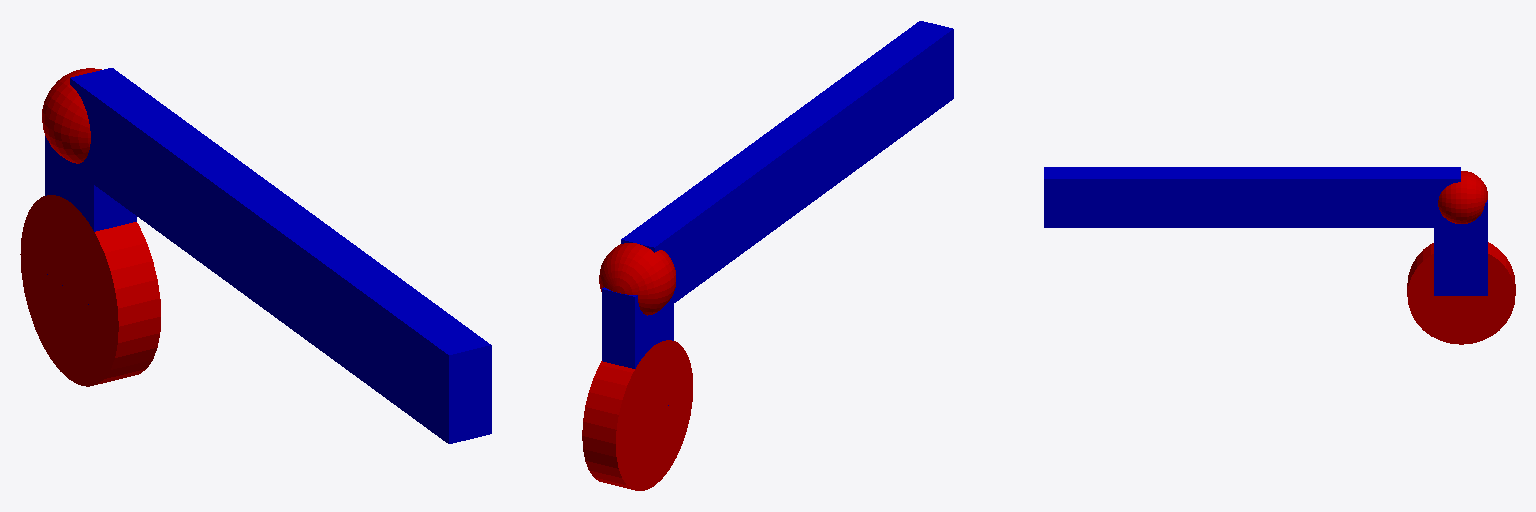
robot.urdf — TwoLinkStruct7406938494:
<?xml version="1.0"?>
<robot  name="TwoLinkStruct7406938494" >
 <material  name="blue" >
  <color  rgba="0 0 0.8 1.0" />
 </material>
 <material  name="red" >
  <color  rgba="0.8 0 0 1.0" />
 </material>
 <link  name="base_link" >
  <visual >
   <origin  rpy="0 1.5707 0"  xyz="0 0 0" />
   <material  name="red" />
   <geometry >
    <cylinder  length="0.05"  radius="0.1" />
   </geometry>
  </visual>
 </link>
 <joint  type="revolute"  name="joint1" >
  <parent  link="base_link" />
  <child  link="link1" />
  <origin  xyz="0 0 0"  rpy="0 0 0" />
  <axis  xyz="1 0 0" />
 </joint>
 <link  name="link1" >
  <inertial >
   <origin  rpy="0 0 0"  xyz="0 0 0.094441072407603" />
   <mass  value="1.0720069917348682" />
   <inertia  ixy="0.0"  iyy="0.0004466695798895285"  izz="0.0034104530835892335"  ixz="0.0"  ixx="0.0034104530835892335"  iyz="0.0" />
  </inertial>
  <visual >
   <origin  rpy="0 0 0"  xyz="0 0 0.094441072407603" />
   <material  name="blue" />
   <geometry >
    <box  size="0.05 0.1 0.188882144815206" />
   </geometry>
  </visual>
 </link>
 <joint  type="fixed"  name="joint-joint-1" >
  <parent  link="link1" />
  <child  link="joint-link-1" />
  <origin  xyz="0 0 0.188882144815206"  rpy="1.5707 0 0" />
  <axis  xyz="1 0 0" />
 </joint>
 <link  name="joint-link-1" >
  <inertial >
   <origin  rpy="0 0 0"  xyz="0 0 0" />
   <mass  value="4.22634804869238" />
   <inertia  ixy="0"  iyy="0"  izz="0"  ixz="0"  ixx="0"  iyz="0" />
  </inertial>
  <visual >
   <origin  rpy="0 0 0"  xyz="0 0 0" />
   <material  name="red" />
   <geometry >
    <sphere  radius="0.05" />
   </geometry>
  </visual>
 </link>
 <joint  type="revolute"  name="joint2" >
  <parent  link="link1" />
  <child  link="link2" />
  <origin  xyz="0 0 0.188882144815206"  rpy="1.5707 0 0" />
  <axis  xyz="1 0 0" />
 </joint>
 <link  name="link2" >
  <inertial >
   <origin  rpy="0 0 0"  xyz="0 0 0.385698384192456" />
   <mass  value="2.7382633568273236" />
   <inertia  ixy="0.0"  iyy="0.0004466695798895285"  izz="0.0533817471962024"  ixz="0.0"  ixx="0.0533817471962024"  iyz="0.0" />
  </inertial>
  <visual >
   <origin  rpy="0 0 0"  xyz="0 0 0.385698384192456" />
   <material  name="blue" />
   <geometry >
    <box  size="0.05 0.1 0.771396768384912" />
   </geometry>
  </visual>
 </link>
 <joint  type="fixed"  name="eef_joint" >
  <parent  link="link2" />
  <child  link="eef" />
  <origin  xyz="0 0 0.771396768384912"  rpy="0 0 0" />
 </joint>
 <link  name="eef" >
  <inertial >
   <origin  rpy="0 0 0"  xyz="0 0 0" />
   <mass  value="1" />
   <inertia  ixy="0"  iyy="0"  izz="0"  ixz="0"  ixx="0"  iyz="0" />
  </inertial>
 </link>
 <transmission  name="motor1" >
  <type  xmltext="SimpleTransmission" >
   SimpleTransmission
  </type>
  <actuator  name="motor1" >
   <mechanicalreduction  xmltext="1" >
    1
   </mechanicalreduction>
  </actuator>
  <joint  name="joint1" />
 </transmission>
 <transmission  name="motor2" >
  <type  xmltext="SimpleTransmission" >
   SimpleTransmission
  </type>
  <actuator  name="motor2" >
   <mechanicalreduction  xmltext="1" >
    1
   </mechanicalreduction>
  </actuator>
  <joint  name="joint2" />
 </transmission>
</robot>

<!-- {'carti': array([-0.1 ,  0.14,  0.85]), 'cartd': array([-0.1 ,  0.32,  1.29]), 'tau_mu': 0.5062081725138509, 'b0': 0.5849475468991611, 'Km': 4.4249957494399075, 'k_velocity': 24.371415690413126, 'tau_max_m': 0.6868756209652863, 'omega_max_m': 7532.6975497352605, 'gear_ratio': 14.08731639781458, 'Kp': 37.51007054500334, 'Kd': 64.55680679094394, 'm_m': 4.22634804869238, 'l1': 0.188882144815206, 'l2': 0.771396768384912, 'k1': 1000.0, 'k2': 49127583.8301766, 'k3': 376846556.3003597}-->

--- Render facts (derived) ---
Views: 3 orthographic renders of the robot side by side, from view 1: azimuth 30°, elevation 25°; view 2: azimuth 150°, elevation 25°; view 3: azimuth 270°, elevation 25°.
Robot: TwoLinkStruct7406938494 — 5 links, 4 joints (2 revolute, 2 fixed); root link base_link; default pose: all joints at 0.
Visible links, largest first — view 1: link2, base_link, link1, joint-link-1; view 2: link2, base_link, link1, joint-link-1; view 3: link2, base_link, link1, joint-link-1.
Boxes of the visible links, x1,y1,x2,y2 form: link2: (70,68,491,443); base_link: (20,195,160,386); link1: (45,136,136,304); joint-link-1: (42,68,101,163); link2: (621,21,953,302); base_link: (582,340,692,490); link1: (602,287,673,405); joint-link-1: (599,243,675,315); link2: (1044,167,1460,227); base_link: (1407,242,1515,344); link1: (1434,200,1487,295); joint-link-1: (1438,171,1487,223).
Bounding box of the posed robot: 0.1 × 0.8714 × 0.339 m (x, y, z).
Geometry: primitives only (box / cylinder / sphere), no mesh files.
